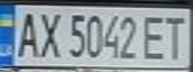0: (84, 10, 106, 60)
2: (118, 11, 142, 61)
4: (103, 11, 124, 60)
5: (63, 10, 87, 60)
A: (12, 8, 42, 59)
E: (139, 11, 172, 61)
T: (160, 12, 190, 61)
X: (36, 8, 63, 59)
